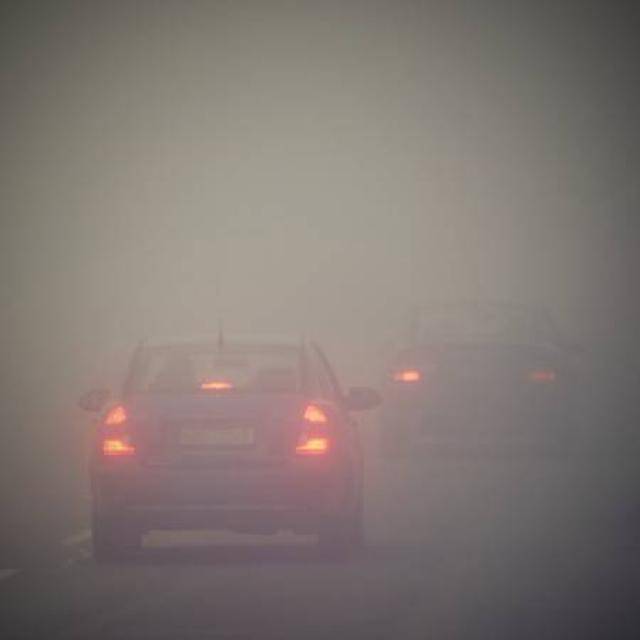car: (90, 344, 370, 552), (388, 292, 579, 459)
